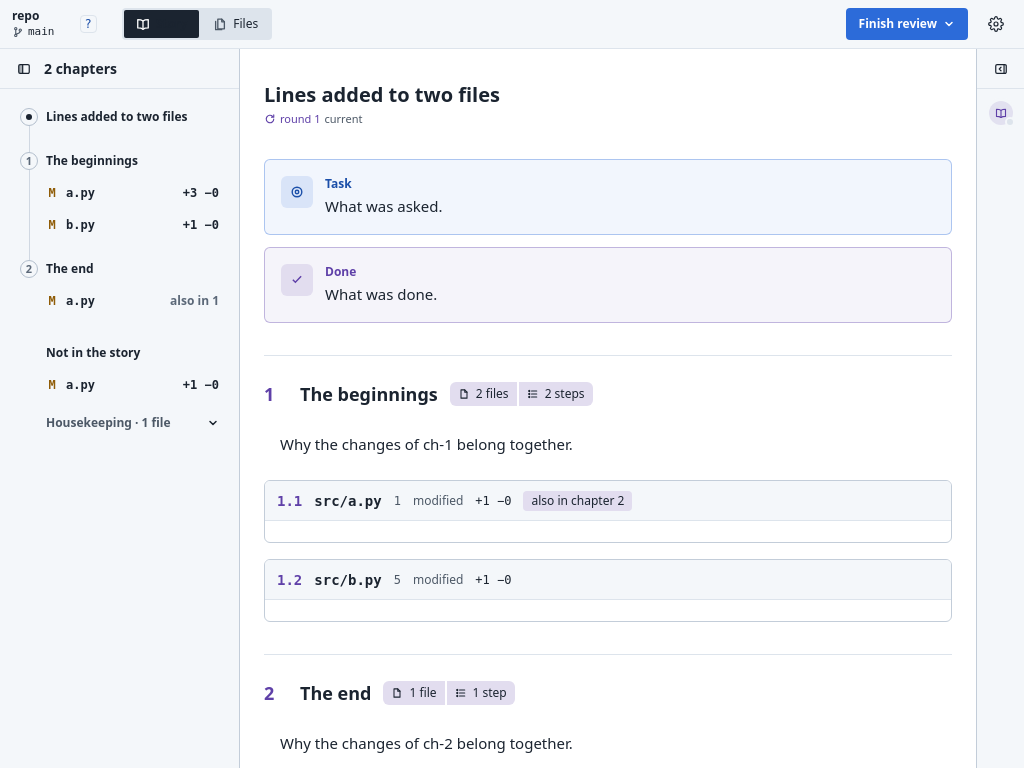
Test: the contents beside a story › is put away to a rail and brought back by itself: the tree of files is left as it was
Click the button with test id "hide-contents" at (24, 68), box [12,56,36,80]
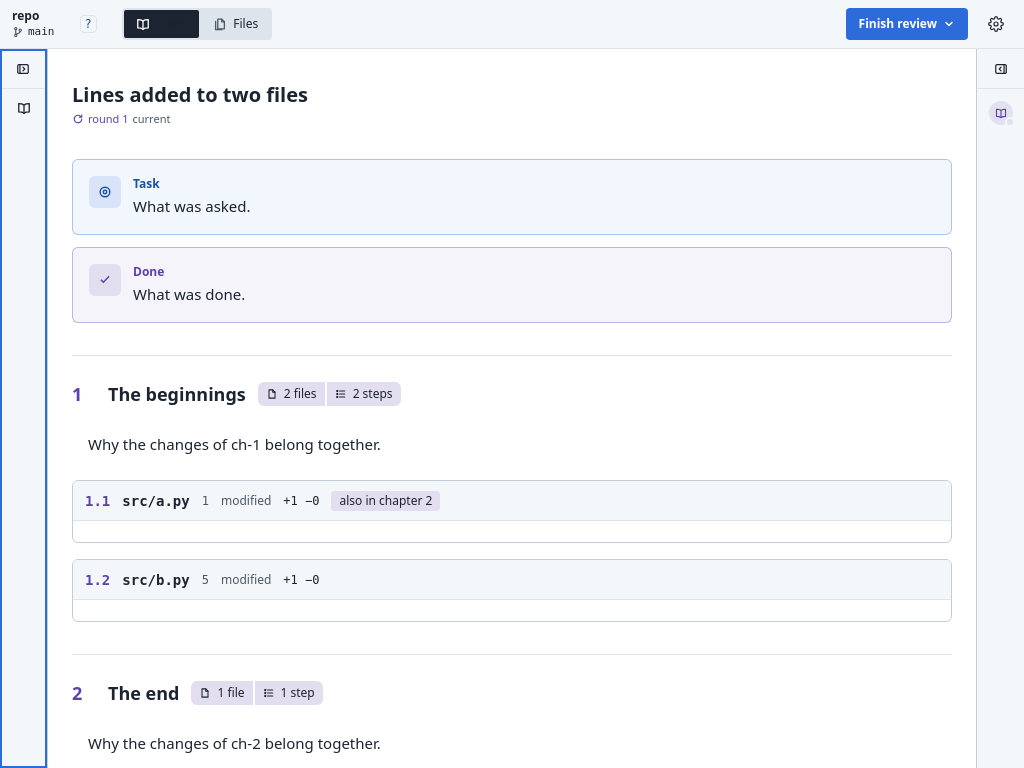
Result: the element with test id "contents" is gone
Click the button with test id "show-contents" at (24, 408), box [0,49,47,767]
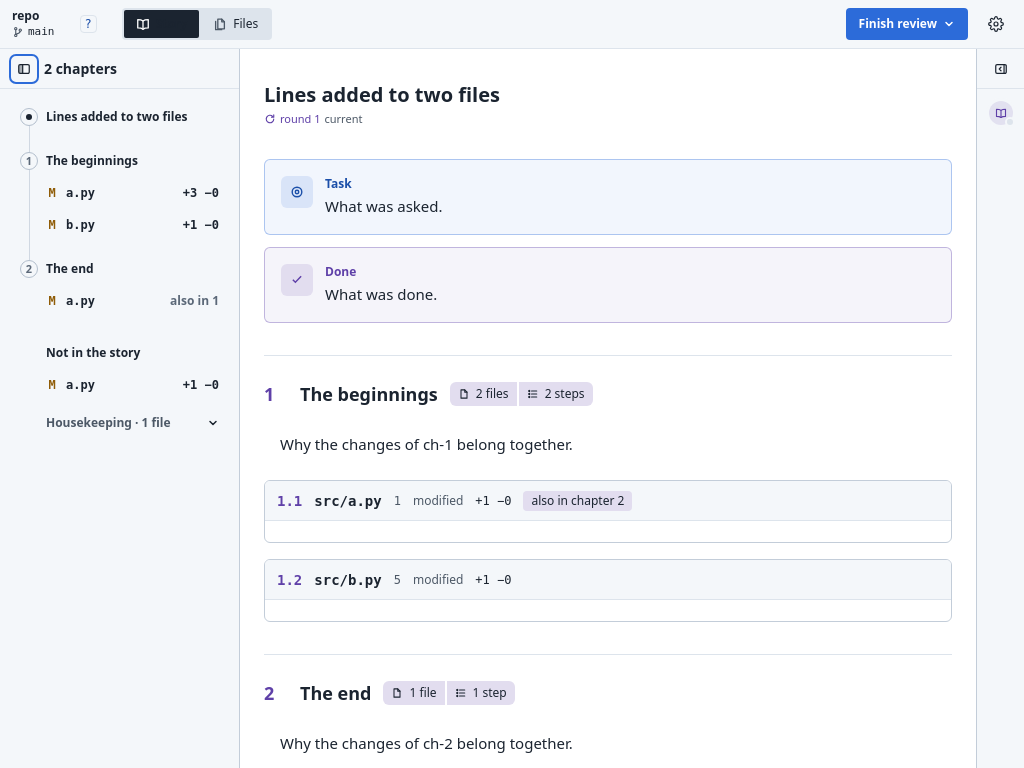
Result: the navigation bar with test id "contents" is shown at [0,49,239,439]
